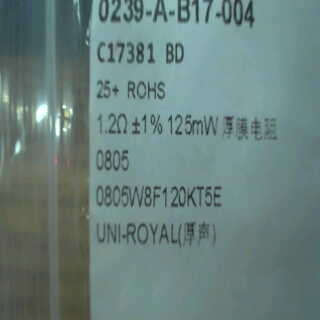1.2R: (92, 110, 131, 181)
